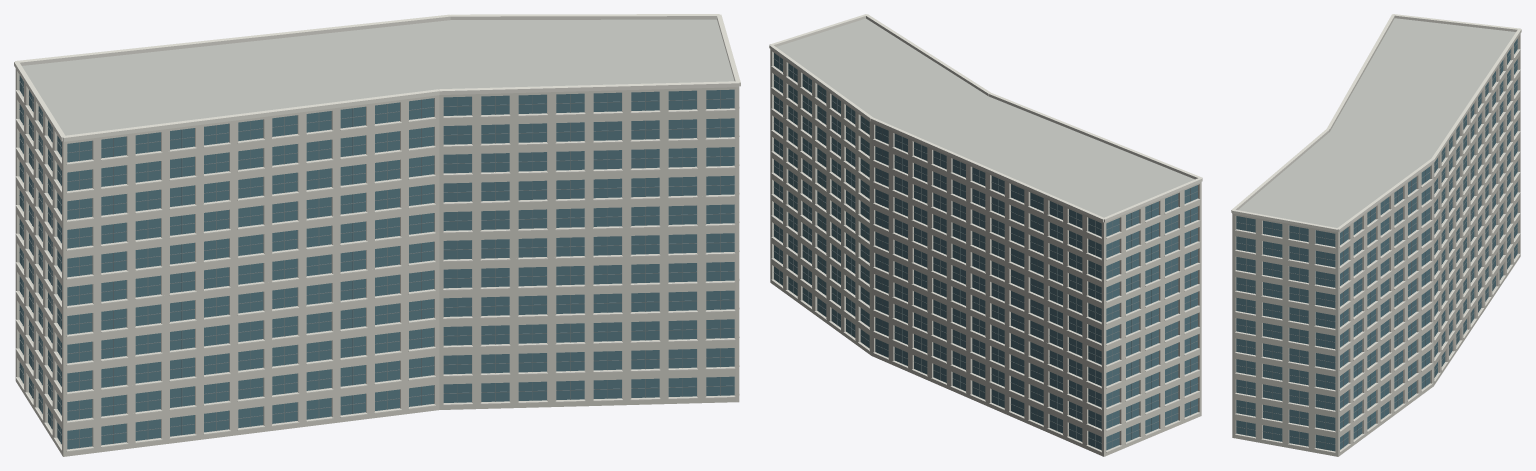
The picture shows the model from 3 angles, left to right: view 1: azimuth 30°, elevation 25°; view 2: azimuth 150°, elevation 25°; view 3: azimuth 270°, elevation 25°; orthographic projection. The views are drawn at different scales.
Parts seen in each view (by area): view 1: wall, glass, roof, trim, metal; view 2: wall, glass, roof, trim, metal; view 3: wall, glass, roof, trim, metal.
Boxes of the visible parts, left/top/right/bottom form: wall: left=15, top=68, right=739, bottom=456; glass: left=19, top=75, right=734, bottom=449; roof: left=22, top=19, right=734, bottom=135; trim: left=14, top=14, right=740, bottom=451; metal: left=19, top=80, right=734, bottom=447; wall: left=770, top=49, right=1201, bottom=456; glass: left=774, top=53, right=1197, bottom=450; roof: left=776, top=18, right=1194, bottom=217; trim: left=769, top=14, right=1202, bottom=452; metal: left=773, top=56, right=1198, bottom=447; wall: left=1232, top=34, right=1520, bottom=456; glass: left=1236, top=39, right=1517, bottom=451; roof: left=1238, top=18, right=1515, bottom=227; trim: left=1231, top=14, right=1521, bottom=452; metal: left=1236, top=42, right=1517, bottom=449.
Size of the model in its own units: 73.48 by 36.14 by 41.78.
